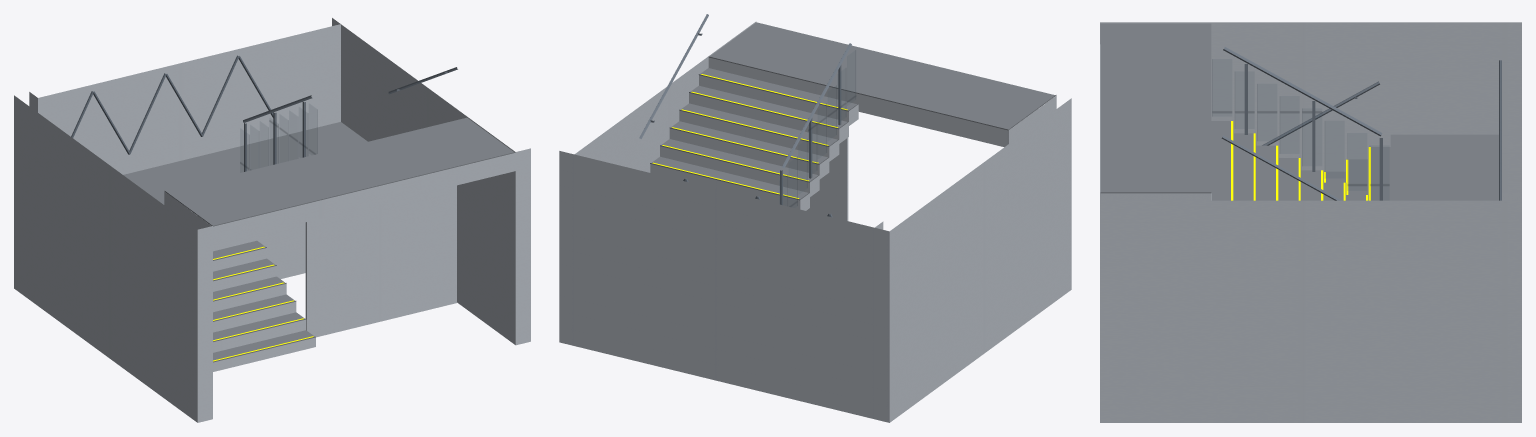
3 views of the same model, side by side, from view 1: azimuth 30°, elevation 25°; view 2: azimuth 150°, elevation 25°; view 3: azimuth 270°, elevation 25° (orthographic). The views are drawn at different scales.
Visible parts, largest first — view 1: Core_Walls, Understair_Screen, Top_Landing_Slate, Top_Landing, Mid_Landing_Slate, Flight1_Cast, Treads_Slate, Mid_Landing, Wall_Lattice, Nosing_Emergency, Guard_Posts, Guard_Glass_Centre; view 2: Core_Walls, Top_Landing_Slate, Flight2_Modules, Treads_Slate, Top_Landing, Understair_Screen, Nosing_Emergency, Guard_Posts, Guard_Glass_Centre, Guard_Cap_Rail, Handrail_Wall; view 3: Core_Walls, Top_Landing_Slate, Treads_Slate, Mid_Landing_Slate, Nosing_Emergency, Handrail_Wall, Top_Landing, Guard_Cap_Rail, Guard_Posts, Guard_Glass_Centre, Wall_Lattice.
Part boxes in pixels (x1,y1,x2,y2): Core_Walls: (14, 18, 530, 422); Understair_Screen: (305, 185, 456, 337); Top_Landing_Slate: (164, 117, 515, 226); Top_Landing: (164, 153, 515, 244); Mid_Landing_Slate: (123, 122, 367, 204); Flight1_Cast: (213, 234, 315, 371); Treads_Slate: (213, 240, 315, 362); Mid_Landing: (257, 222, 305, 279); Wall_Lattice: (71, 55, 273, 154); Nosing_Emergency: (213, 246, 313, 361); Guard_Posts: (244, 102, 305, 171); Guard_Glass_Centre: (240, 110, 317, 169); Core_Walls: (559, 21, 1071, 422); Top_Landing_Slate: (708, 22, 1056, 130); Flight2_Modules: (650, 75, 858, 210); Treads_Slate: (650, 68, 858, 200); Top_Landing: (708, 57, 1056, 147); Understair_Screen: (806, 138, 848, 220); Nosing_Emergency: (652, 74, 847, 198); Guard_Posts: (780, 65, 841, 205); Guard_Glass_Centre: (787, 50, 855, 206); Guard_Cap_Rail: (782, 43, 851, 168); Handrail_Wall: (639, 14, 708, 138); Core_Walls: (1100, 22, 1521, 422); Top_Landing_Slate: (1100, 23, 1211, 193); Treads_Slate: (1211, 121, 1390, 200); Mid_Landing_Slate: (1390, 134, 1498, 200); Nosing_Emergency: (1231, 121, 1370, 200); Handrail_Wall: (1221, 81, 1379, 200); Top_Landing: (1100, 44, 1210, 200); Guard_Cap_Rail: (1223, 47, 1382, 136); Guard_Posts: (1244, 64, 1382, 200); Guard_Glass_Centre: (1212, 59, 1389, 199); Wall_Lattice: (1499, 60, 1501, 200).
Size of what is drawn, in the model's own units: 5.5 by 3.9 by 5.25.
Materials: 6 (4 with a texture image).
